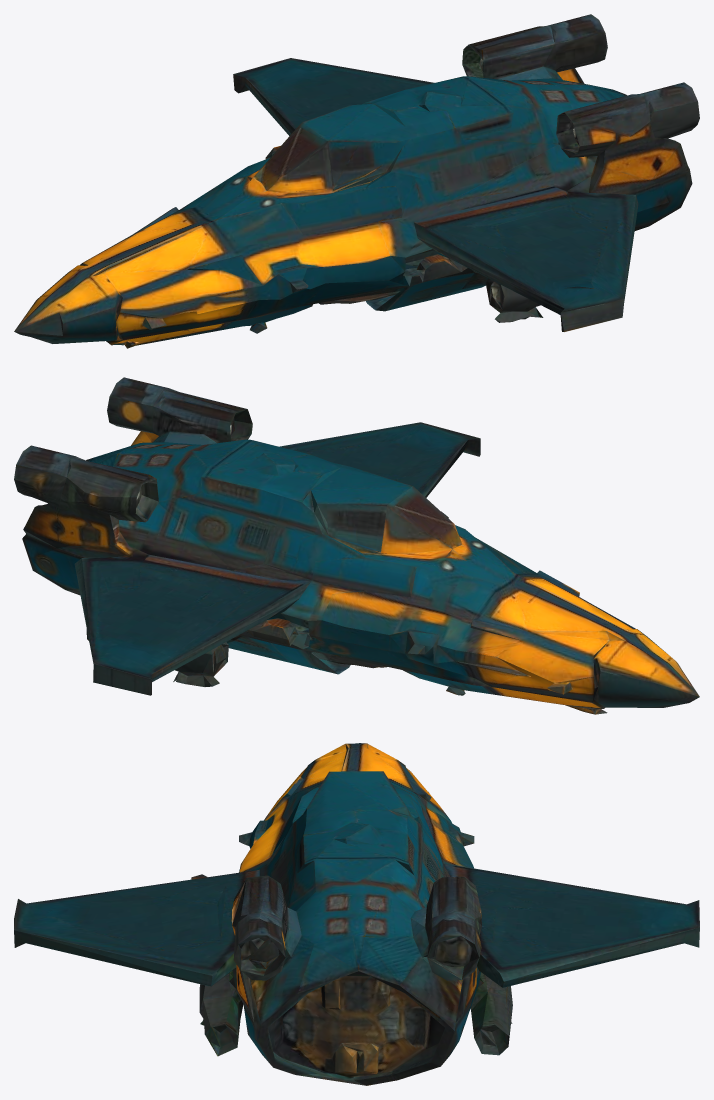
Rendered from nation-g-scout.glb.
3 renders of one model, top to bottom at view 1: azimuth 30°, elevation 25°; view 2: azimuth 150°, elevation 25°; view 3: azimuth 270°, elevation 25°, orthographic. The views are drawn at different scales.
Size of the model in its own units: 1.9 by 0.5653 by 1.72.
1 material, 1 textured.
